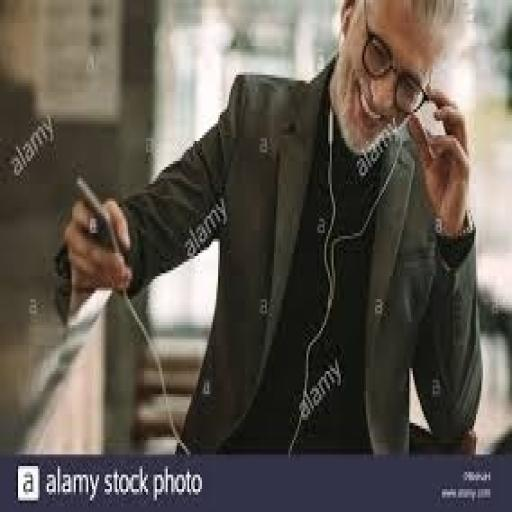calling: (59, 0, 483, 457)
